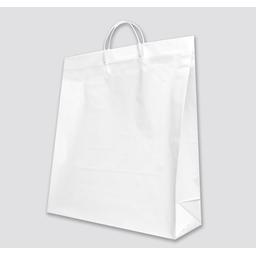plastic: (35, 23, 218, 249)
